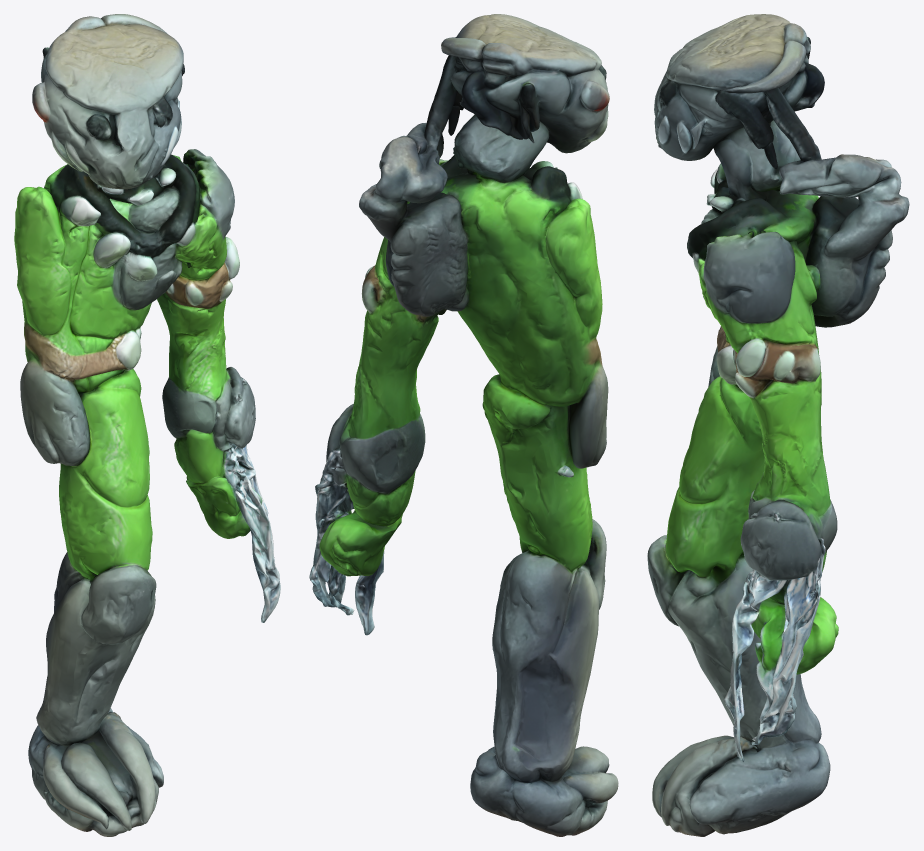
The model's file is predator-2-web-v1.glb.
3 renders of one model, left to right at view 1: azimuth 30°, elevation 25°; view 2: azimuth 150°, elevation 25°; view 3: azimuth 270°, elevation 25°, orthographic. The views are drawn at different scales.
Size of the model in its own units: 0.3584 by 0.9997 by 0.2929.
Materials: 1 (1 with a texture image).
